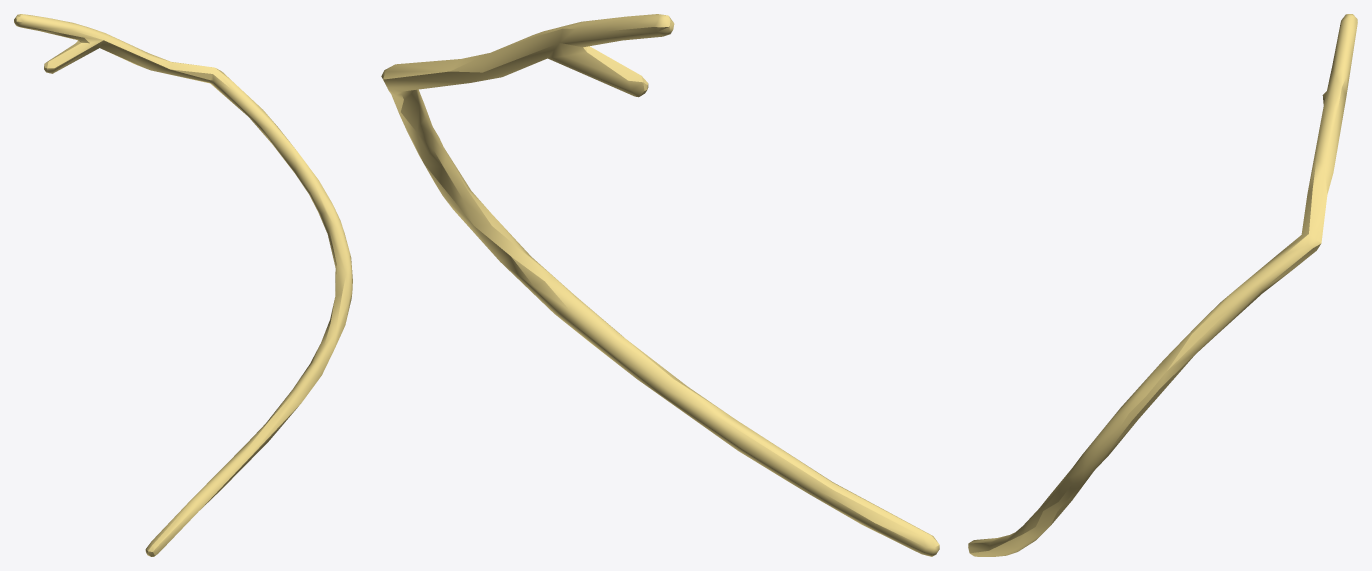
File: fma6115_fj4163.glb
The picture shows the model from 3 angles, left to right: view 1: azimuth 30°, elevation 25°; view 2: azimuth 150°, elevation 25°; view 3: azimuth 270°, elevation 25°; orthographic projection. The views are drawn at different scales.
Visible parts, largest first — view 1: FMA6115_FJ4163; view 2: FMA6115_FJ4163; view 3: FMA6115_FJ4163.
Boxes of the visible parts, bbox=[...] form: FMA6115_FJ4163: bbox=[14, 14, 352, 556]; FMA6115_FJ4163: bbox=[381, 14, 939, 556]; FMA6115_FJ4163: bbox=[968, 14, 1357, 556].
Size of the model in its own units: 0.0102 by 0.0165 by 0.0106.
